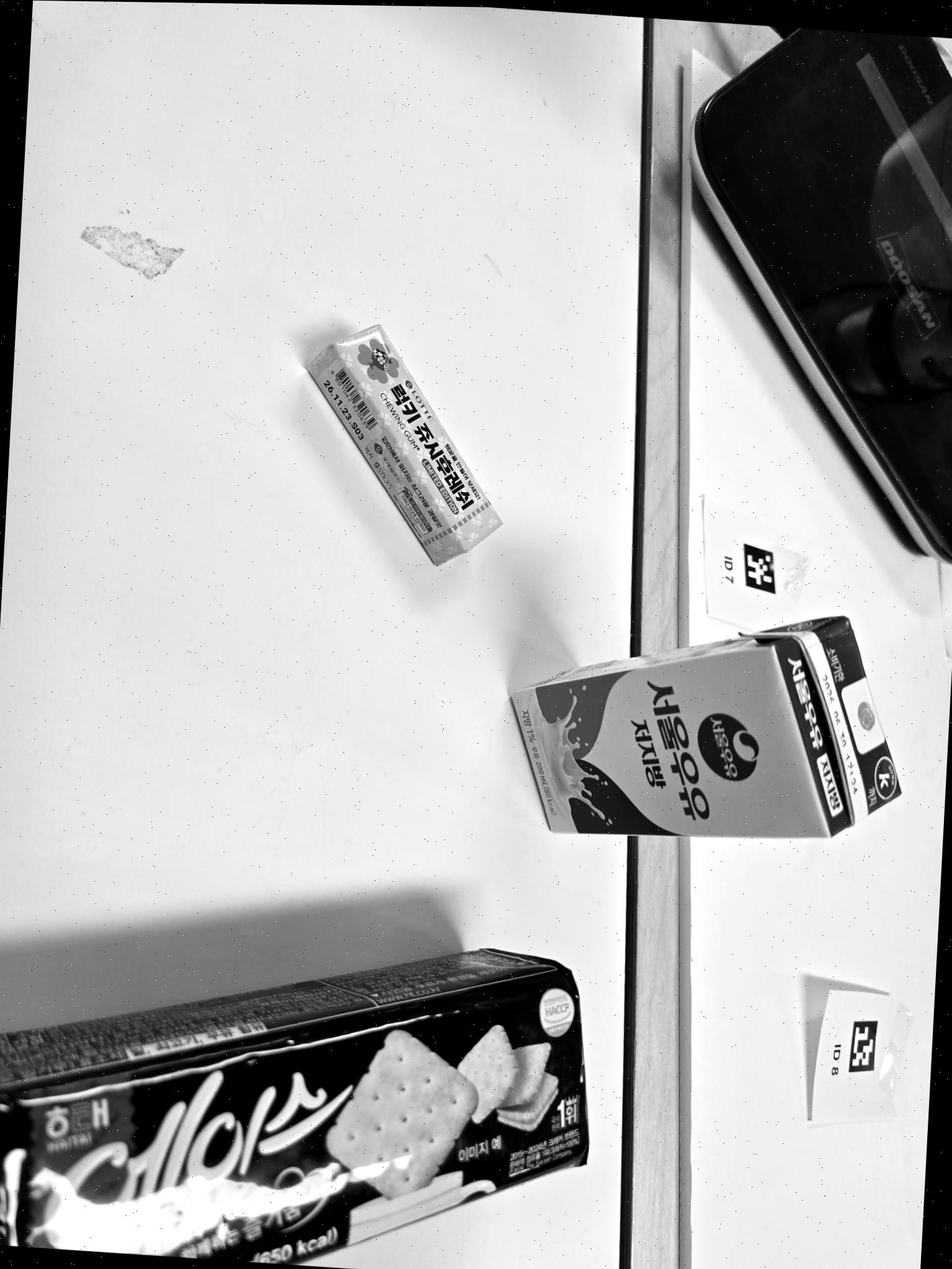cracker_ace: (0, 949, 589, 1266)
gum_yellow: (307, 326, 501, 565)
milk_blue: (514, 616, 900, 837)
